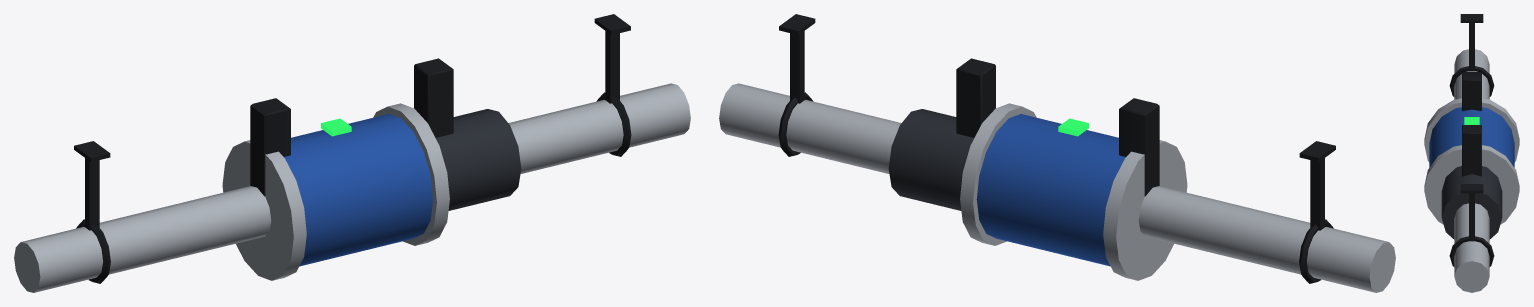
Rendered from pipe_ceiling_pump.glb.
3 views of the same model, side by side, from view 1: azimuth 30°, elevation 25°; view 2: azimuth 150°, elevation 25°; view 3: azimuth 270°, elevation 25° (orthographic). The views are drawn at different scales.
Visible parts, largest first — view 1: pipe_ceiling_pump; view 2: pipe_ceiling_pump; view 3: pipe_ceiling_pump.
Part boxes in pixels (left/top/right/bottom): pipe_ceiling_pump: left=14, top=14, right=690, bottom=292; pipe_ceiling_pump: left=719, top=14, right=1395, bottom=292; pipe_ceiling_pump: left=1424, top=14, right=1519, bottom=292.
Bounding box in the file's own units: 2 × 0.49 × 0.38.
